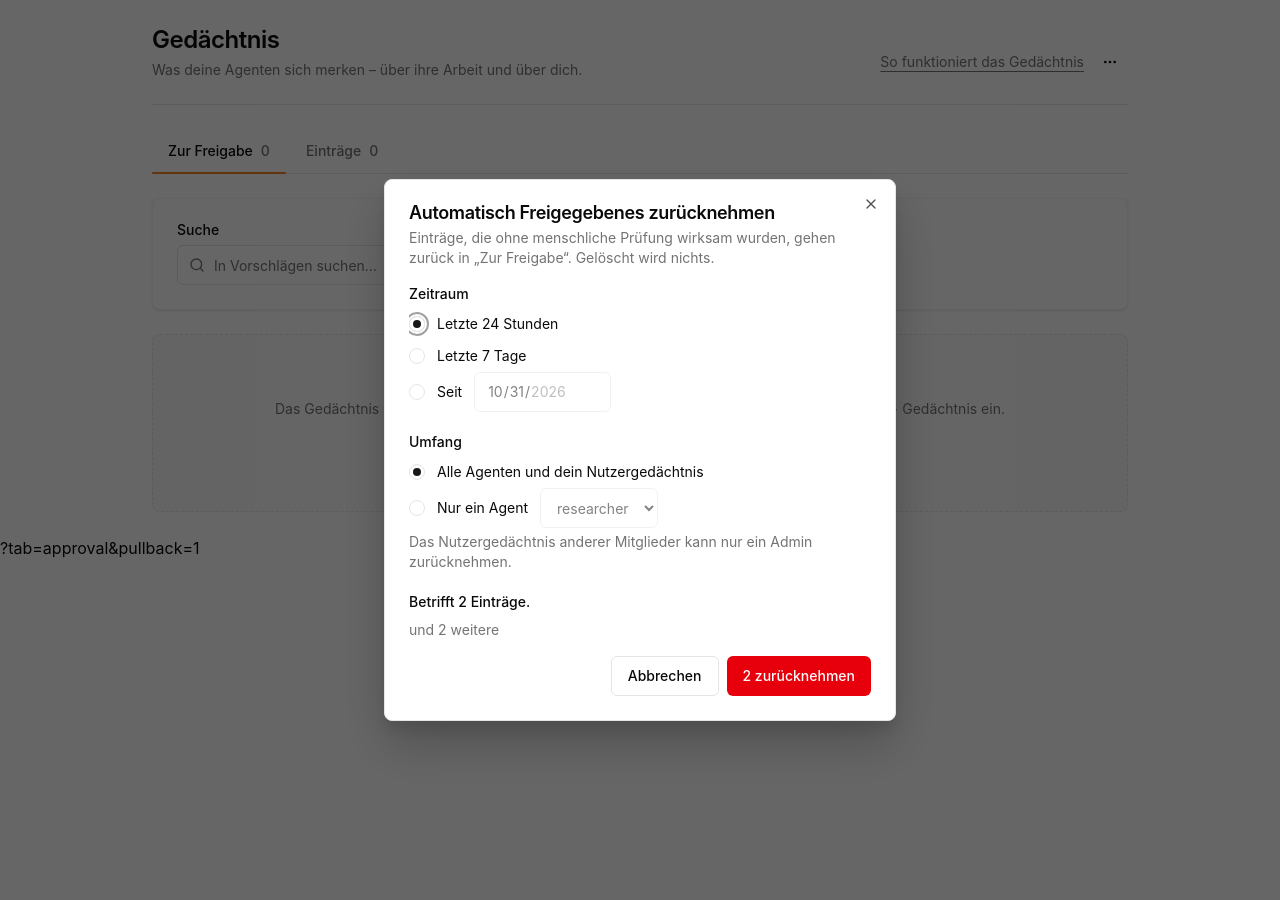
Test case: PullBackDialog (C5c-2, Spec §8) › öffnet über ?pullback=1 (Link aus S4) und zählt neu, wenn der Umfang wechselt
This screenshot has width=1280, height=900.
Expected: the text "Betrifft 2 Einträge." is shown, [409,593,530,610]
Click the radio button named "Nur ein Agent" next to "Nur ein Agent" at (417, 508), box [409,500,425,516]
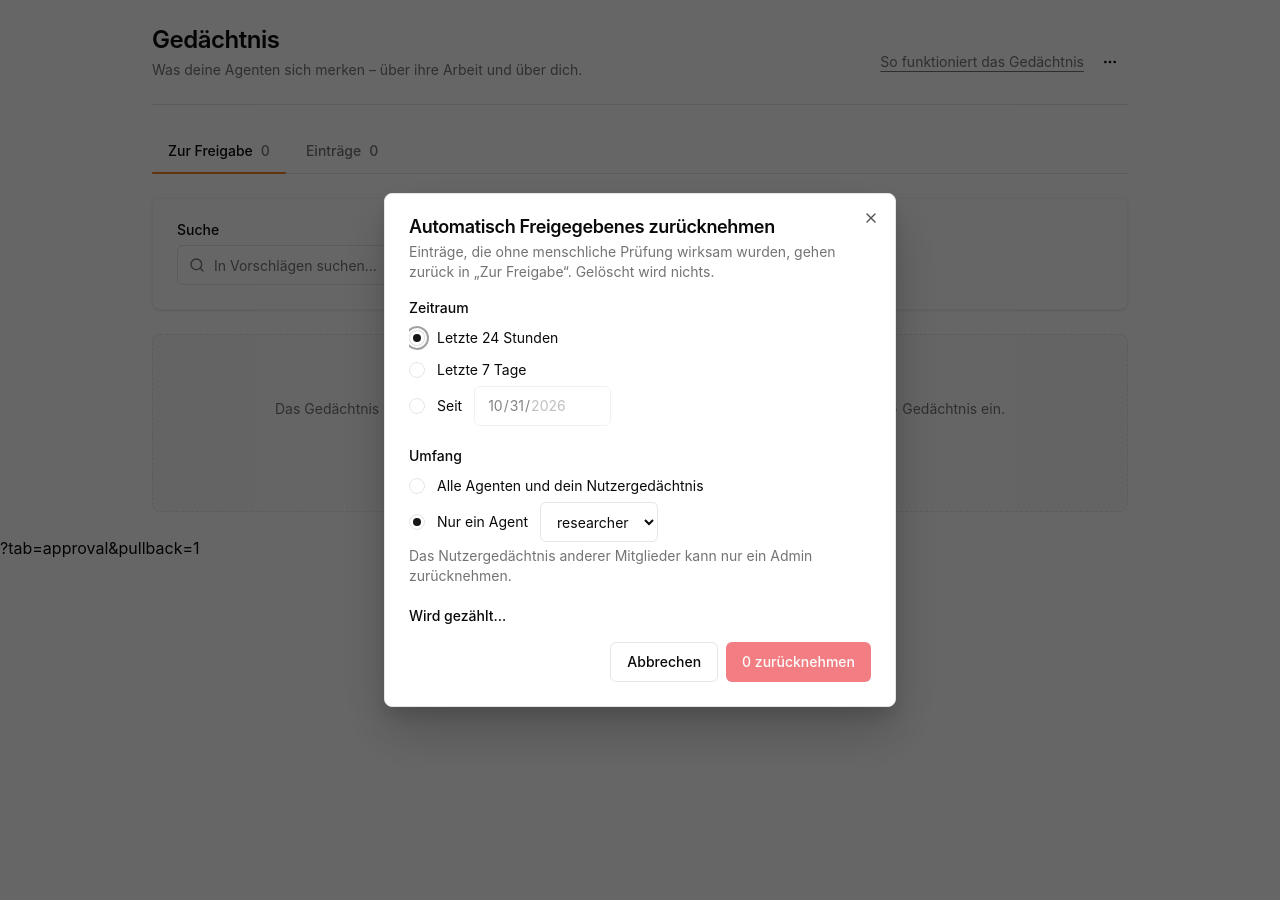
Select "coder" in the dropdown with test id "pullback-agent" at (599, 522), box [540,502,658,542]
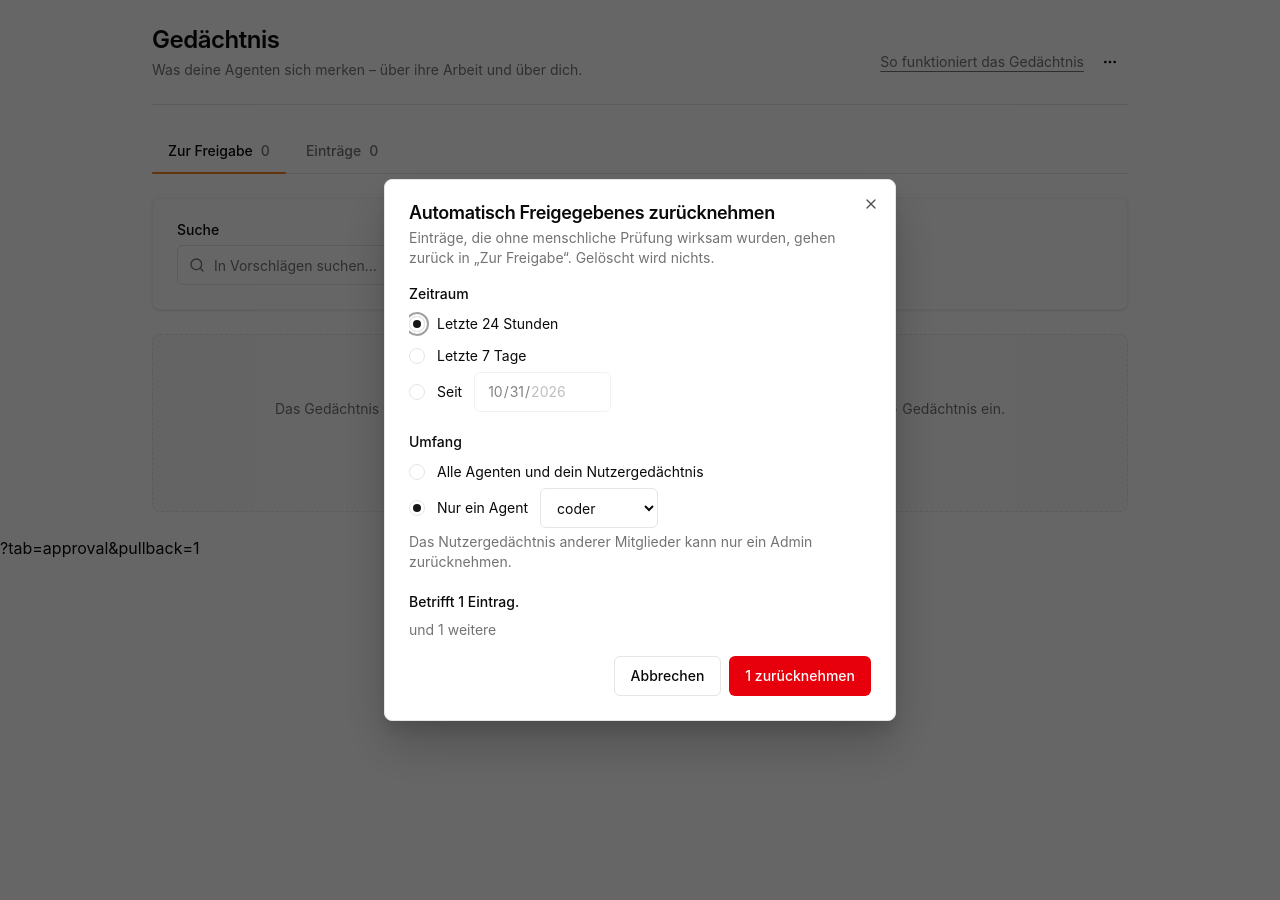
Now the text "Betrifft 1 Eintrag." is shown, box [409,593,519,610]
